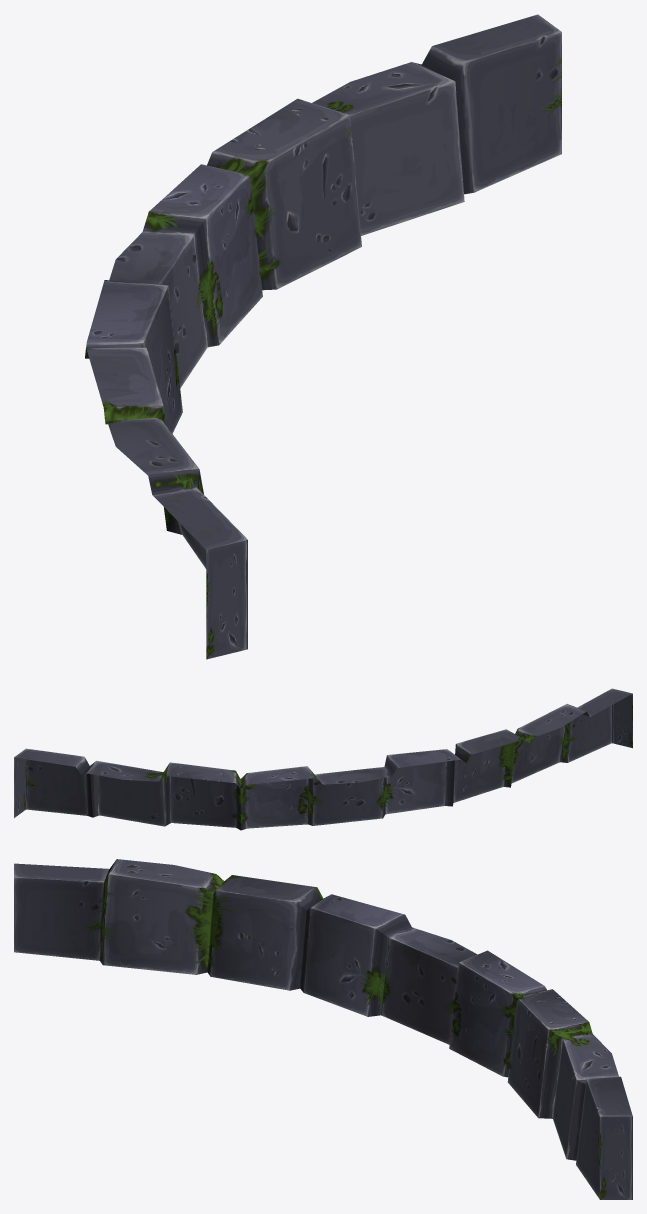
The model's file is MOD_WallTrim_01_M_concave_1.fbx.
3 renders of one model, top to bottom at view 1: azimuth 30°, elevation 25°; view 2: azimuth 150°, elevation 25°; view 3: azimuth 270°, elevation 25°, orthographic. The views are drawn at different scales.
Visible parts, largest first — view 1: MOD_WallTrim_01_M_concave_1; view 2: MOD_WallTrim_01_M_concave_1; view 3: MOD_WallTrim_01_M_concave_1.
Part boxes in pixels (left/top/right/bottom): MOD_WallTrim_01_M_concave_1: left=85, top=14, right=561, bottom=659; MOD_WallTrim_01_M_concave_1: left=14, top=688, right=632, bottom=830; MOD_WallTrim_01_M_concave_1: left=14, top=859, right=632, bottom=1199.
Size of what is drawn, in the model's own units: 375 by 58.27 by 375.
